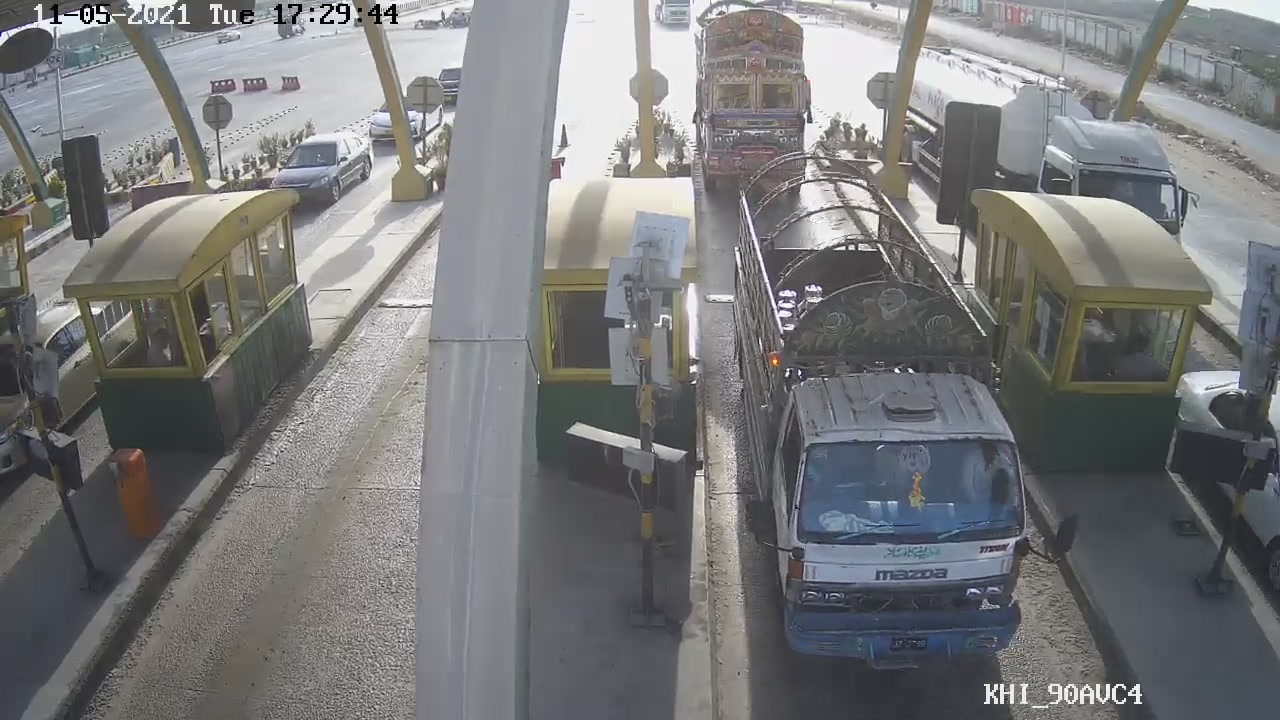F5: (729, 145, 1036, 677)
